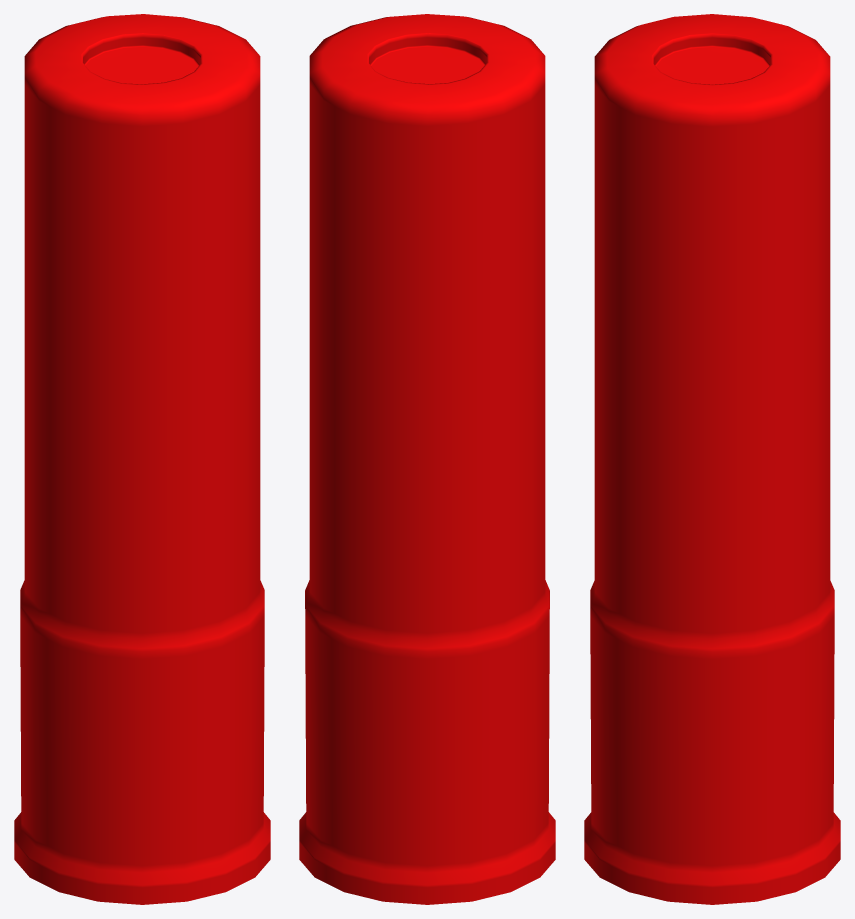
The model's file is cartridge.fbx.
The picture shows the model from 3 angles, left to right: view 1: azimuth 30°, elevation 25°; view 2: azimuth 150°, elevation 25°; view 3: azimuth 270°, elevation 25°; orthographic projection.
Parts seen in each view (by area): view 1: Cartridge003; view 2: Cartridge003; view 3: Cartridge003.
Boxes of the visible parts, x1,y1,x2,y2 form: Cartridge003: (14, 14, 270, 904); Cartridge003: (299, 14, 555, 904); Cartridge003: (584, 14, 840, 904).
Bounding box in the file's own units: 1.66 × 5.55 × 1.63.
